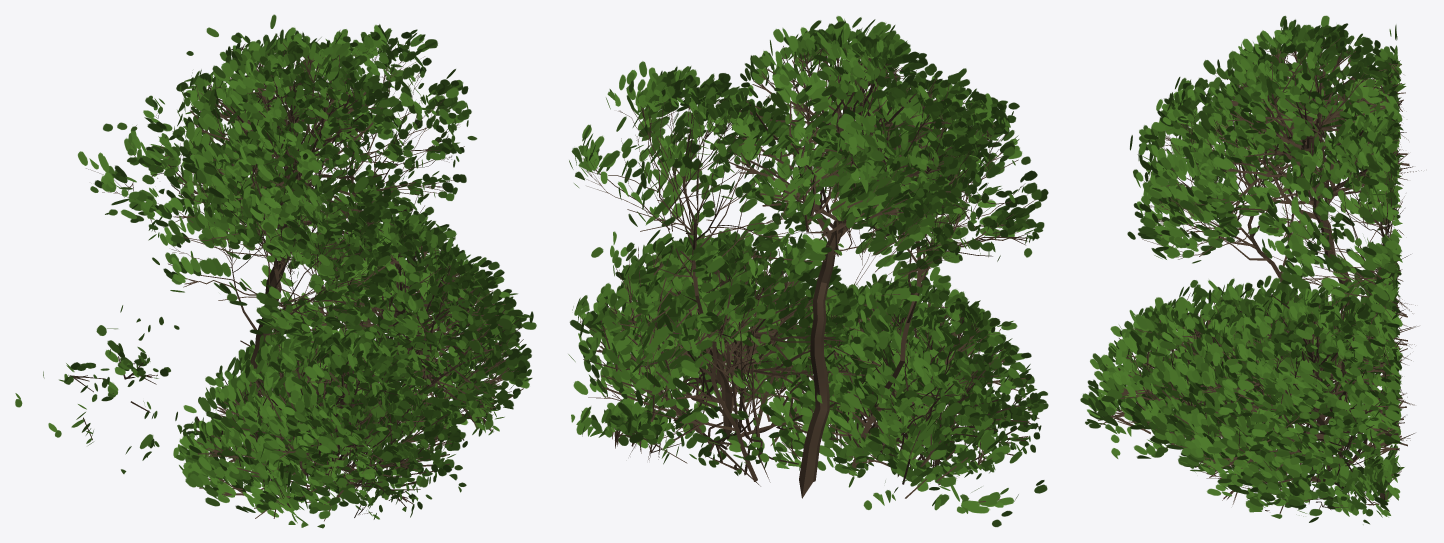
3 views of the same model, side by side, from view 1: azimuth 30°, elevation 25°; view 2: azimuth 150°, elevation 25°; view 3: azimuth 270°, elevation 25° (orthographic). The views are drawn at different scales.
Visible parts, largest first — view 1: oak 01.001_trunk_Mat.001_0.184; view 2: oak 01.001_trunk_Mat.001_0.184; view 3: oak 01.001_trunk_Mat.001_0.184.
Part boxes in pixels (x1,y1,x2,y2): oak 01.001_trunk_Mat.001_0.184: (15,14,536,528); oak 01.001_trunk_Mat.001_0.184: (568,16,1048,527); oak 01.001_trunk_Mat.001_0.184: (1080,15,1421,524).
Size of the model in its own units: 4.66 by 4.12 by 3.1.
Materials: 2 (1 with a texture image).
